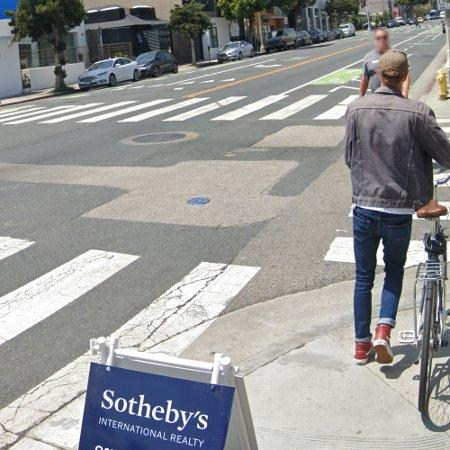crosswalks: (0, 94, 361, 125)
